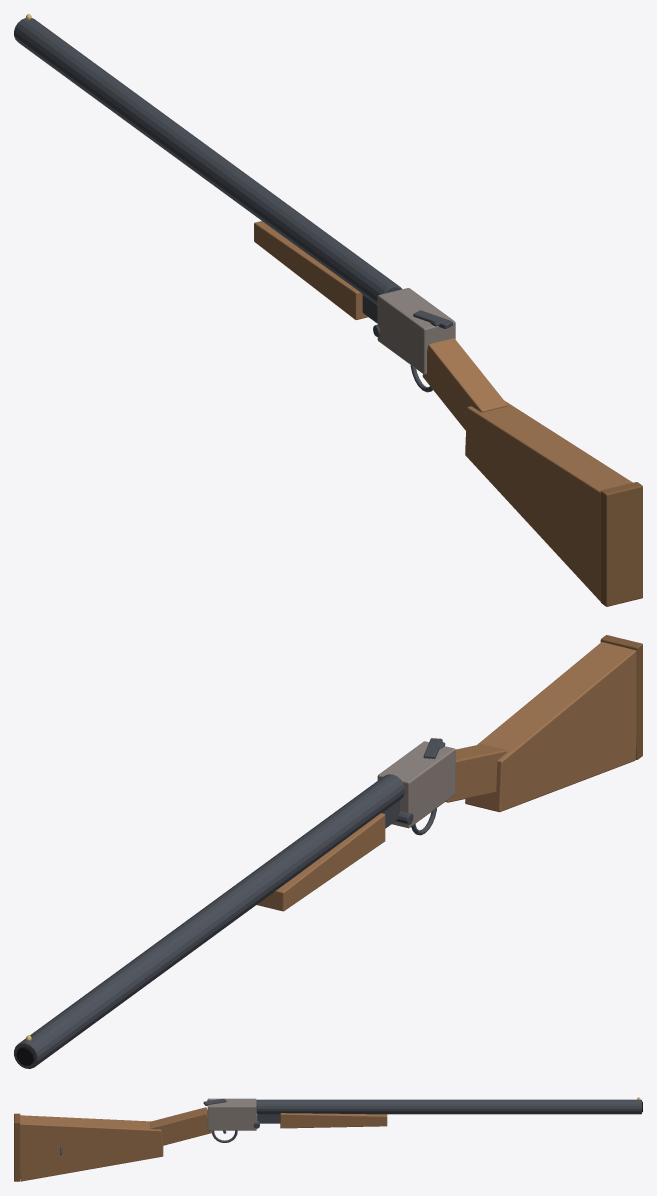
Rendered from shotgun.glb.
3 renders of one model, top to bottom at view 1: azimuth 30°, elevation 25°; view 2: azimuth 150°, elevation 25°; view 3: azimuth 270°, elevation 25°, orthographic. The views are drawn at different scales.
Visible parts, largest first — view 1: Shotgun, ShotgunBarrel; view 2: Shotgun, ShotgunBarrel; view 3: Shotgun, ShotgunBarrel.
Boxes of the visible parts, bbox=[...] form: Shotgun: bbox=[373, 288, 642, 606]; ShotgunBarrel: bbox=[14, 14, 402, 323]; Shotgun: bbox=[377, 635, 642, 835]; ShotgunBarrel: bbox=[14, 774, 404, 1068]; Shotgun: bbox=[14, 1098, 259, 1181]; ShotgunBarrel: bbox=[256, 1097, 642, 1128].
Bounding box in the file's own units: 0.067 × 0.1648 × 1.18.
